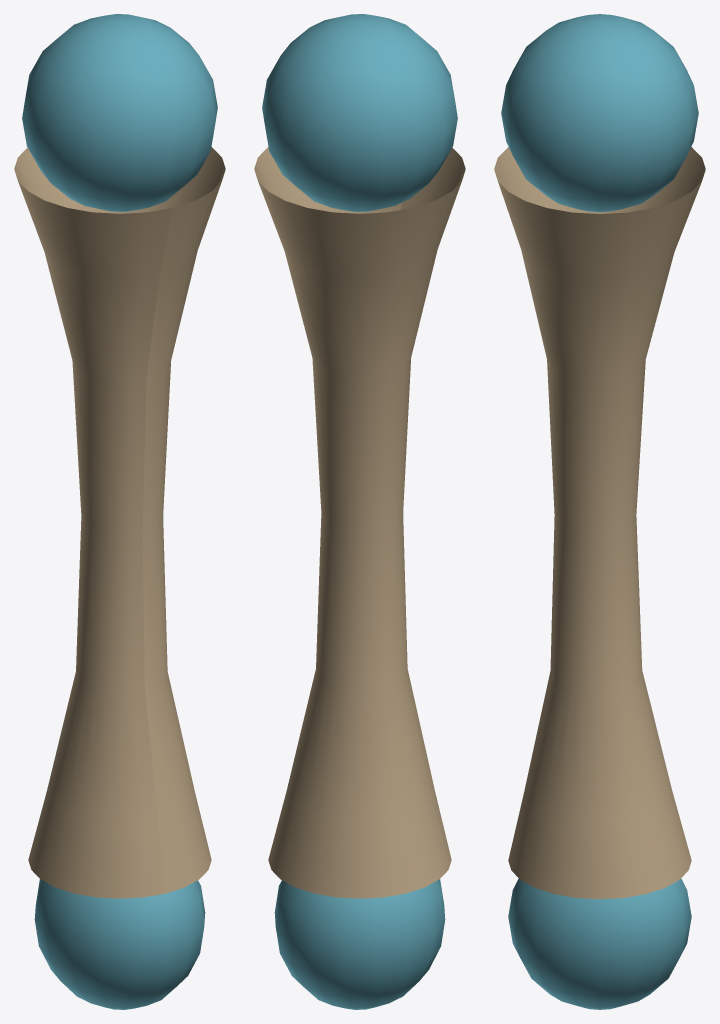
File: left_metatarsal_5.glb
The picture shows the model from 3 angles, left to right: view 1: azimuth 30°, elevation 25°; view 2: azimuth 150°, elevation 25°; view 3: azimuth 270°, elevation 25°; orthographic projection.
Visible parts, largest first — view 1: left_metatarsal_5:diaphysis, left_metatarsal_5:proximal-envelope, left_metatarsal_5:distal-envelope; view 2: left_metatarsal_5:diaphysis, left_metatarsal_5:proximal-envelope, left_metatarsal_5:distal-envelope; view 3: left_metatarsal_5:diaphysis, left_metatarsal_5:proximal-envelope, left_metatarsal_5:distal-envelope.
Part boxes in pixels (x1=…): left_metatarsal_5:diaphysis: x1=14, y1=147, x2=225, y2=898; left_metatarsal_5:proximal-envelope: x1=22, y1=14, x2=217, y2=211; left_metatarsal_5:distal-envelope: x1=34, y1=879, x2=205, y2=1009; left_metatarsal_5:diaphysis: x1=254, y1=147, x2=465, y2=898; left_metatarsal_5:proximal-envelope: x1=262, y1=14, x2=457, y2=211; left_metatarsal_5:distal-envelope: x1=274, y1=879, x2=445, y2=1009; left_metatarsal_5:diaphysis: x1=494, y1=147, x2=705, y2=899; left_metatarsal_5:proximal-envelope: x1=501, y1=14, x2=698, y2=212; left_metatarsal_5:distal-envelope: x1=508, y1=878, x2=691, y2=1009.
Bounding box in the file's own units: 0.0387 × 0.1978 × 0.0387.
